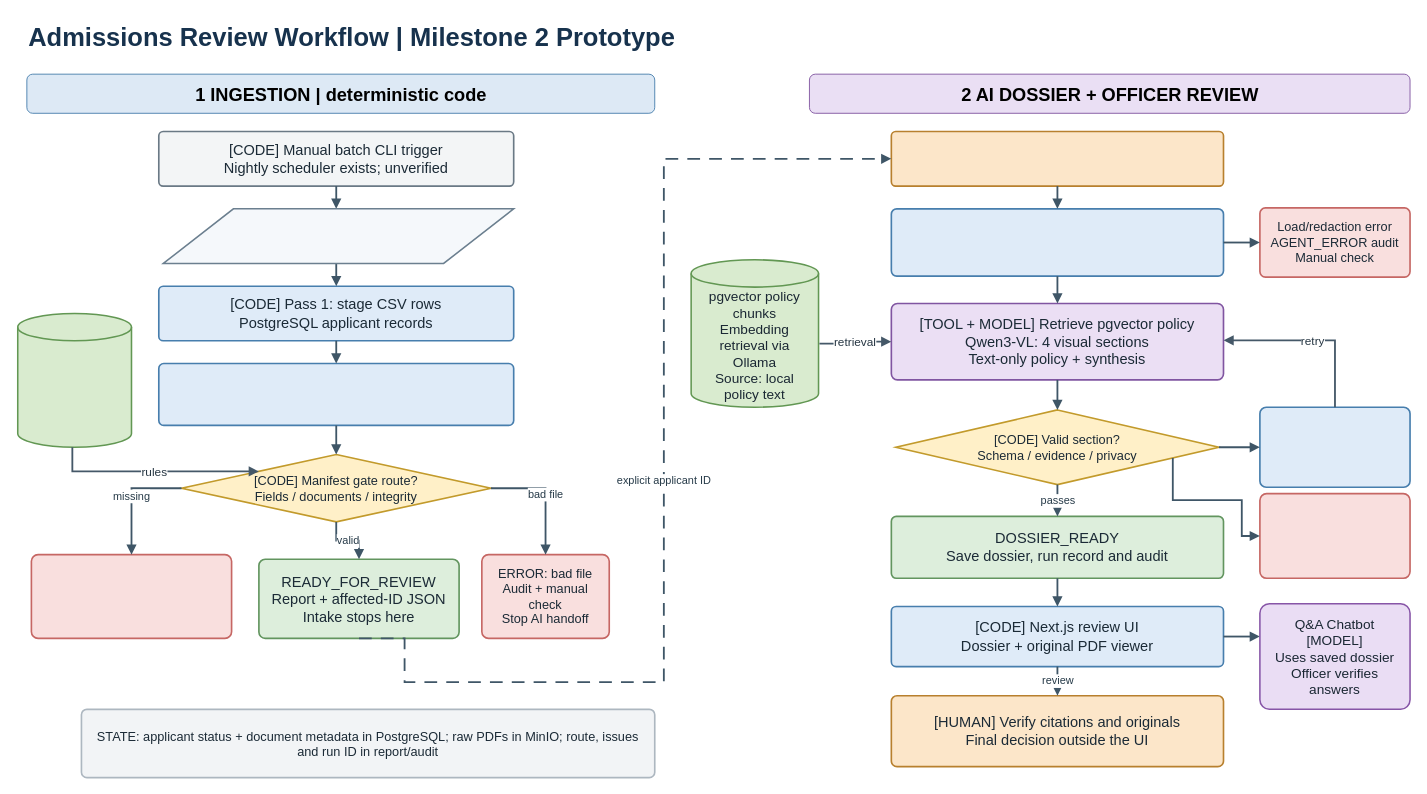
Some shapes in this 1427 by 794 pixel diagram are drawn without their labels. Each missing label, with the centre of its shape:
[CODE] Pass 2: link and archive PDFs Size/header checks, SHA-256, MinIO: pixel 336 394
[CODE] Withhold essays/restricted text Download permitted PDFs; render pages: pixel 1057 242
[HUMAN + CODE] Select eligible ID Agent handoff is currently manual: pixel 1057 158
Attempt 1 invalid Retry section once Max 2 attempts: pixel 1334 447
Attempt 2 invalid AI_VALIDATION_FAILED Manual check: pixel 1334 535
config/policies.yaml required fields and documents: pixel 74 380
INCOMPLETE: metadata AWAITING_MATERIALS: PDFs Packet update; stop: pixel 131 596
INPUT: synthetic applicant CSV and batch applicant PDF folders: pixel 338 236
